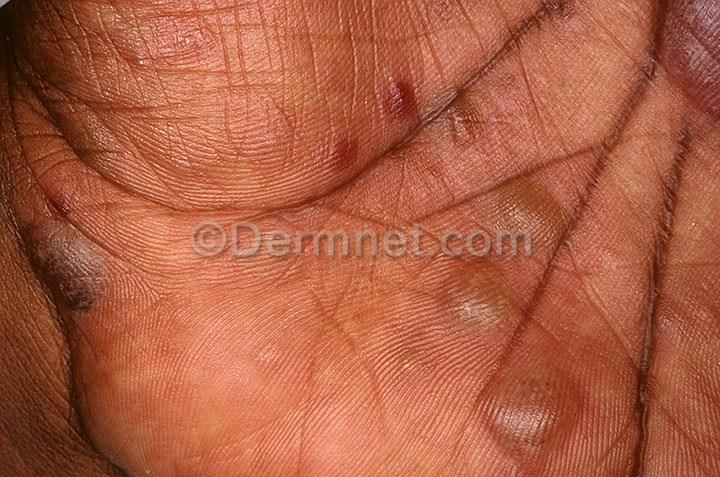Eczema: (27, 181, 192, 334), (378, 48, 516, 186), (473, 357, 611, 477), (254, 100, 378, 231), (421, 258, 536, 372), (632, 2, 720, 121), (498, 173, 592, 277), (698, 188, 699, 188)
